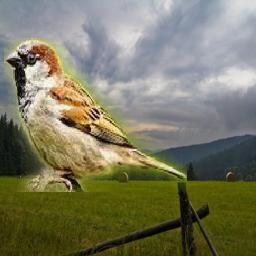Sparrow: (5, 38, 188, 192)
